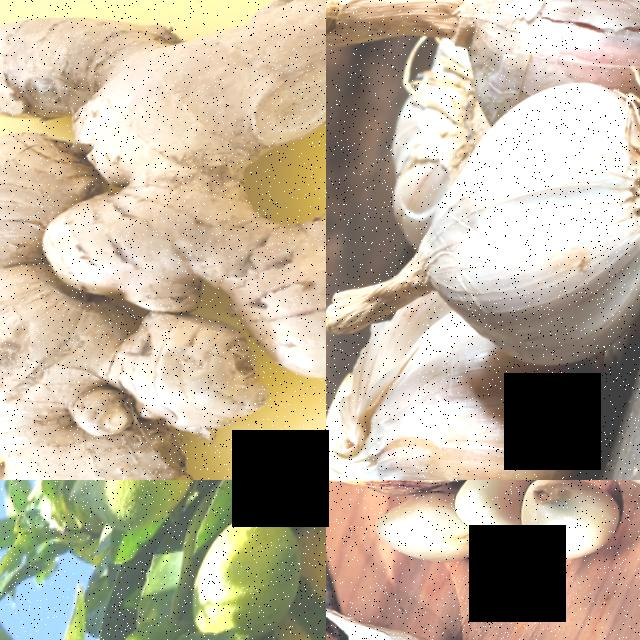garlic: (402, 75, 640, 387), (327, 316, 637, 480), (423, 0, 640, 116), (512, 480, 638, 578), (451, 480, 544, 551)
ginger: (0, 0, 326, 480)
lemon: (189, 509, 326, 640), (67, 480, 208, 541)
